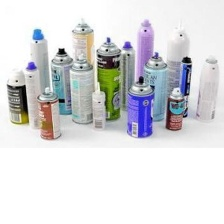aerosol_cans: (162, 19, 192, 115), (67, 14, 97, 105), (92, 33, 122, 123), (66, 52, 100, 127), (25, 24, 53, 112), (47, 41, 79, 117), (140, 48, 171, 123), (122, 76, 156, 140), (192, 51, 221, 124), (132, 16, 157, 100), (20, 58, 47, 132), (2, 64, 31, 128), (115, 36, 139, 113), (33, 85, 64, 142), (174, 53, 195, 120), (86, 79, 110, 132), (163, 82, 185, 132)
